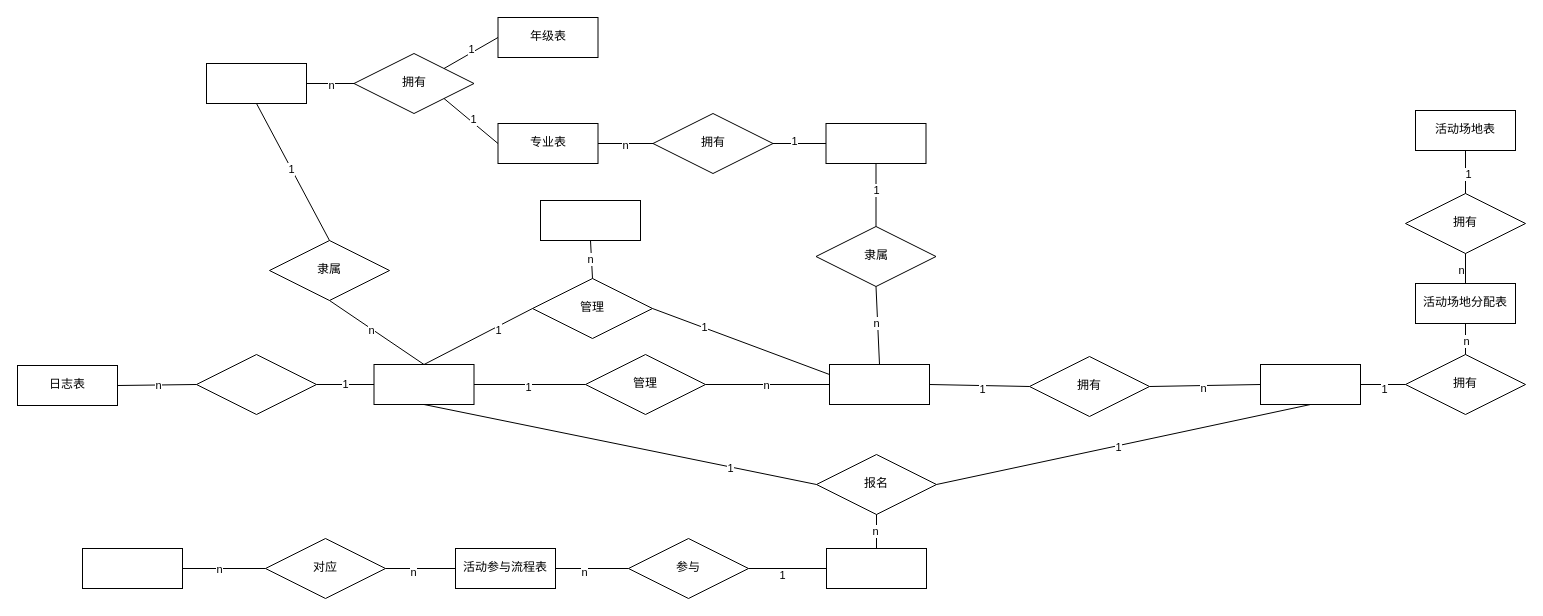
This 1543x616 diagram has some shape labels left out. Each missing label, with the centre of its shape:
"j记录" goes at point (256, 384).
"公告表" goes at point (590, 220).
"参与方式表" goes at point (132, 568).
"学院表" goes at point (875, 143).
"活动报名表" goes at point (876, 568).
"班级表" goes at point (256, 83).
"用户表" goes at point (423, 384).
"社团活动表" goes at point (1310, 384).
"社团表" goes at point (879, 384).
